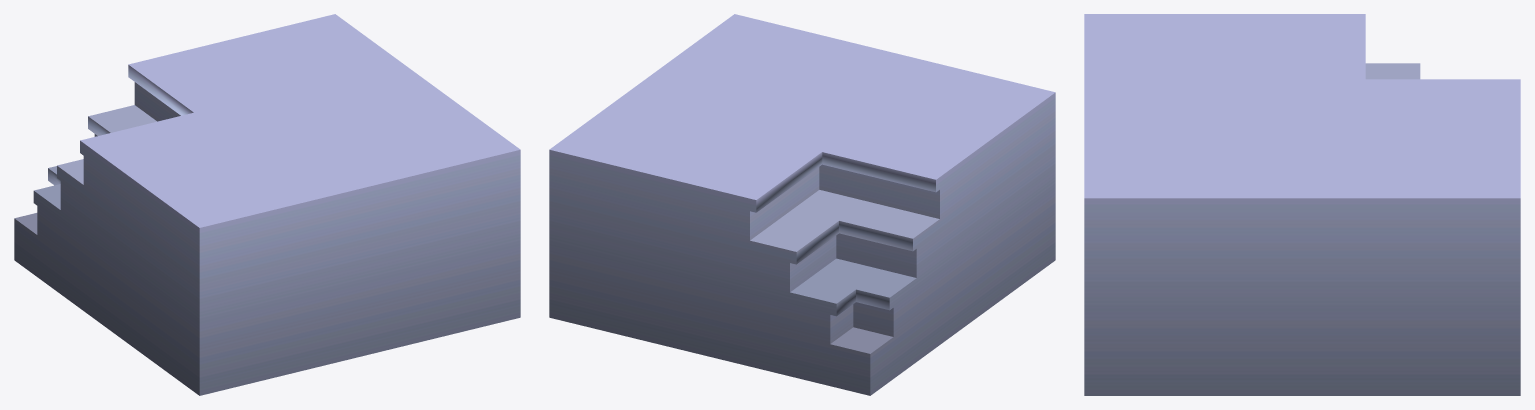
The model's file is stairs-full-corner-inner.glb.
The picture shows the model from 3 angles, left to right: view 1: azimuth 30°, elevation 25°; view 2: azimuth 150°, elevation 25°; view 3: azimuth 270°, elevation 25°; orthographic projection. The views are drawn at different scales.
Parts seen in each view (by area): view 1: stairs-full-corner-inner; view 2: stairs-full-corner-inner; view 3: stairs-full-corner-inner.
Part boxes in pixels (x1,y1,x2,y2): stairs-full-corner-inner: [14, 14, 520, 395]; stairs-full-corner-inner: [549, 14, 1055, 395]; stairs-full-corner-inner: [1084, 14, 1520, 395].
Size of the model in its own units: 1 by 0.5 by 1.
Materials: 1 (1 with a texture image).
